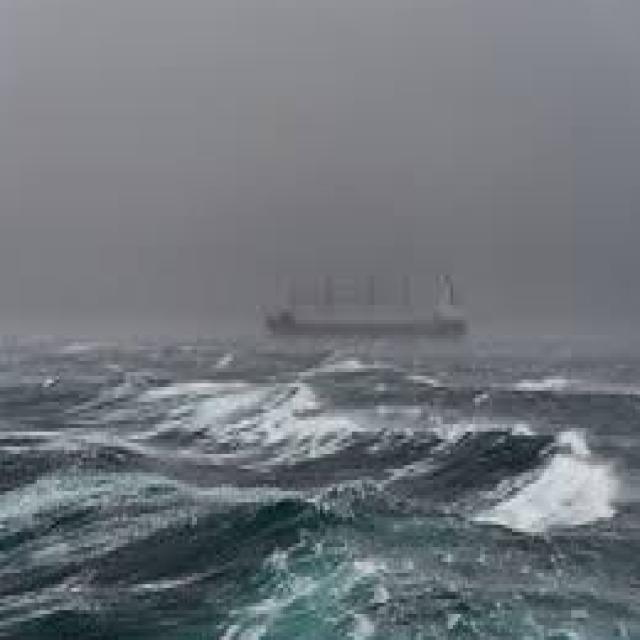cargoship: (257, 260, 471, 343)
